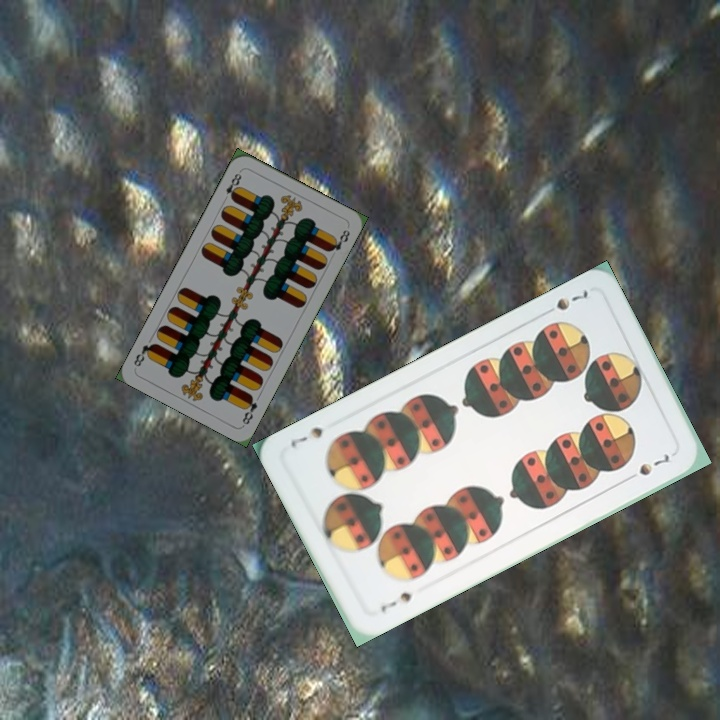E8: (219, 167, 244, 204), (238, 391, 260, 427)
S7: (538, 285, 591, 318), (376, 588, 415, 615)
